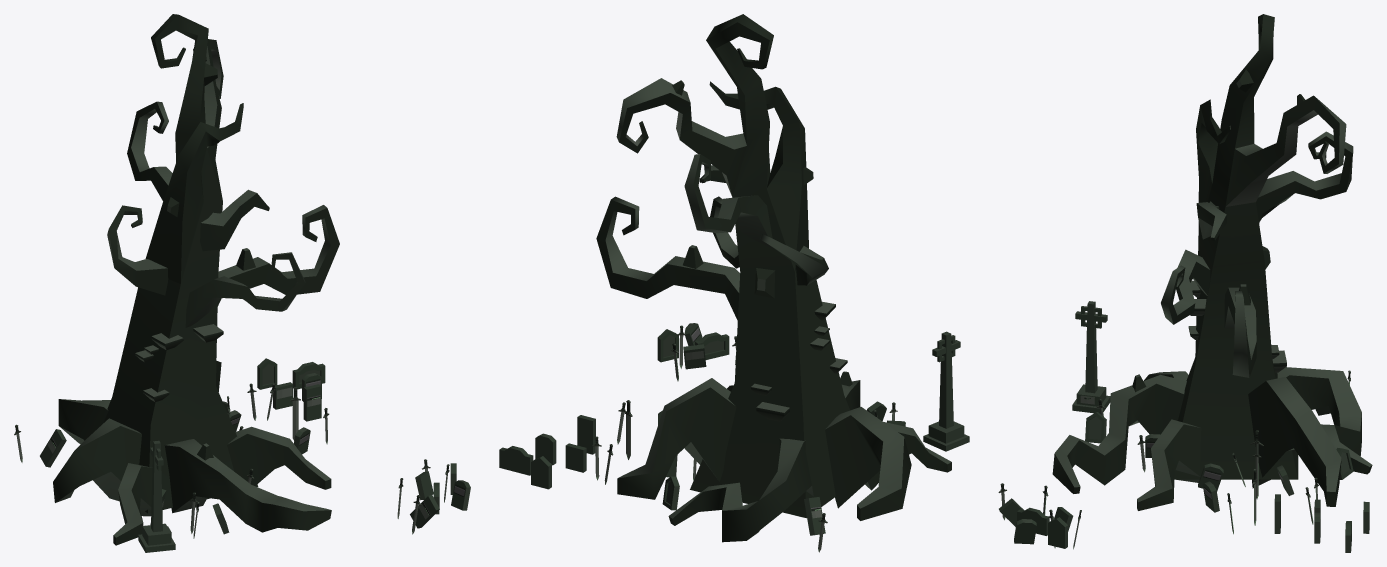
Rendered from SF_Env_Undead_Preset_07.glb.
3 renders of one model, left to right at view 1: azimuth 30°, elevation 25°; view 2: azimuth 150°, elevation 25°; view 3: azimuth 270°, elevation 25°, orthographic. The views are drawn at different scales.
Visible parts, largest first — view 1: SF_Env_Undead_Preset_07; view 2: SF_Env_Undead_Preset_07; view 3: SF_Env_Undead_Preset_07.
Boxes of the visible parts, bbox=[...] form: SF_Env_Undead_Preset_07: bbox=[14, 14, 470, 552]; SF_Env_Undead_Preset_07: bbox=[499, 14, 969, 552]; SF_Env_Undead_Preset_07: bbox=[998, 14, 1372, 552].
Size of the model in its own units: 0.1906 by 0.2565 by 0.1885.
1 material, 1 textured.
